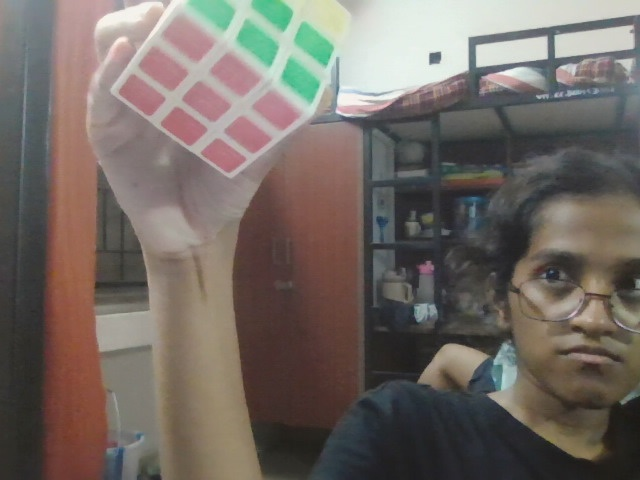rubiks_cube: (97, 0, 347, 125)
